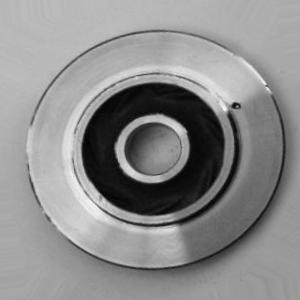pit: (227, 97, 247, 113)
scratch: (17, 111, 59, 226)
unpolished_casting: (27, 30, 286, 272)
